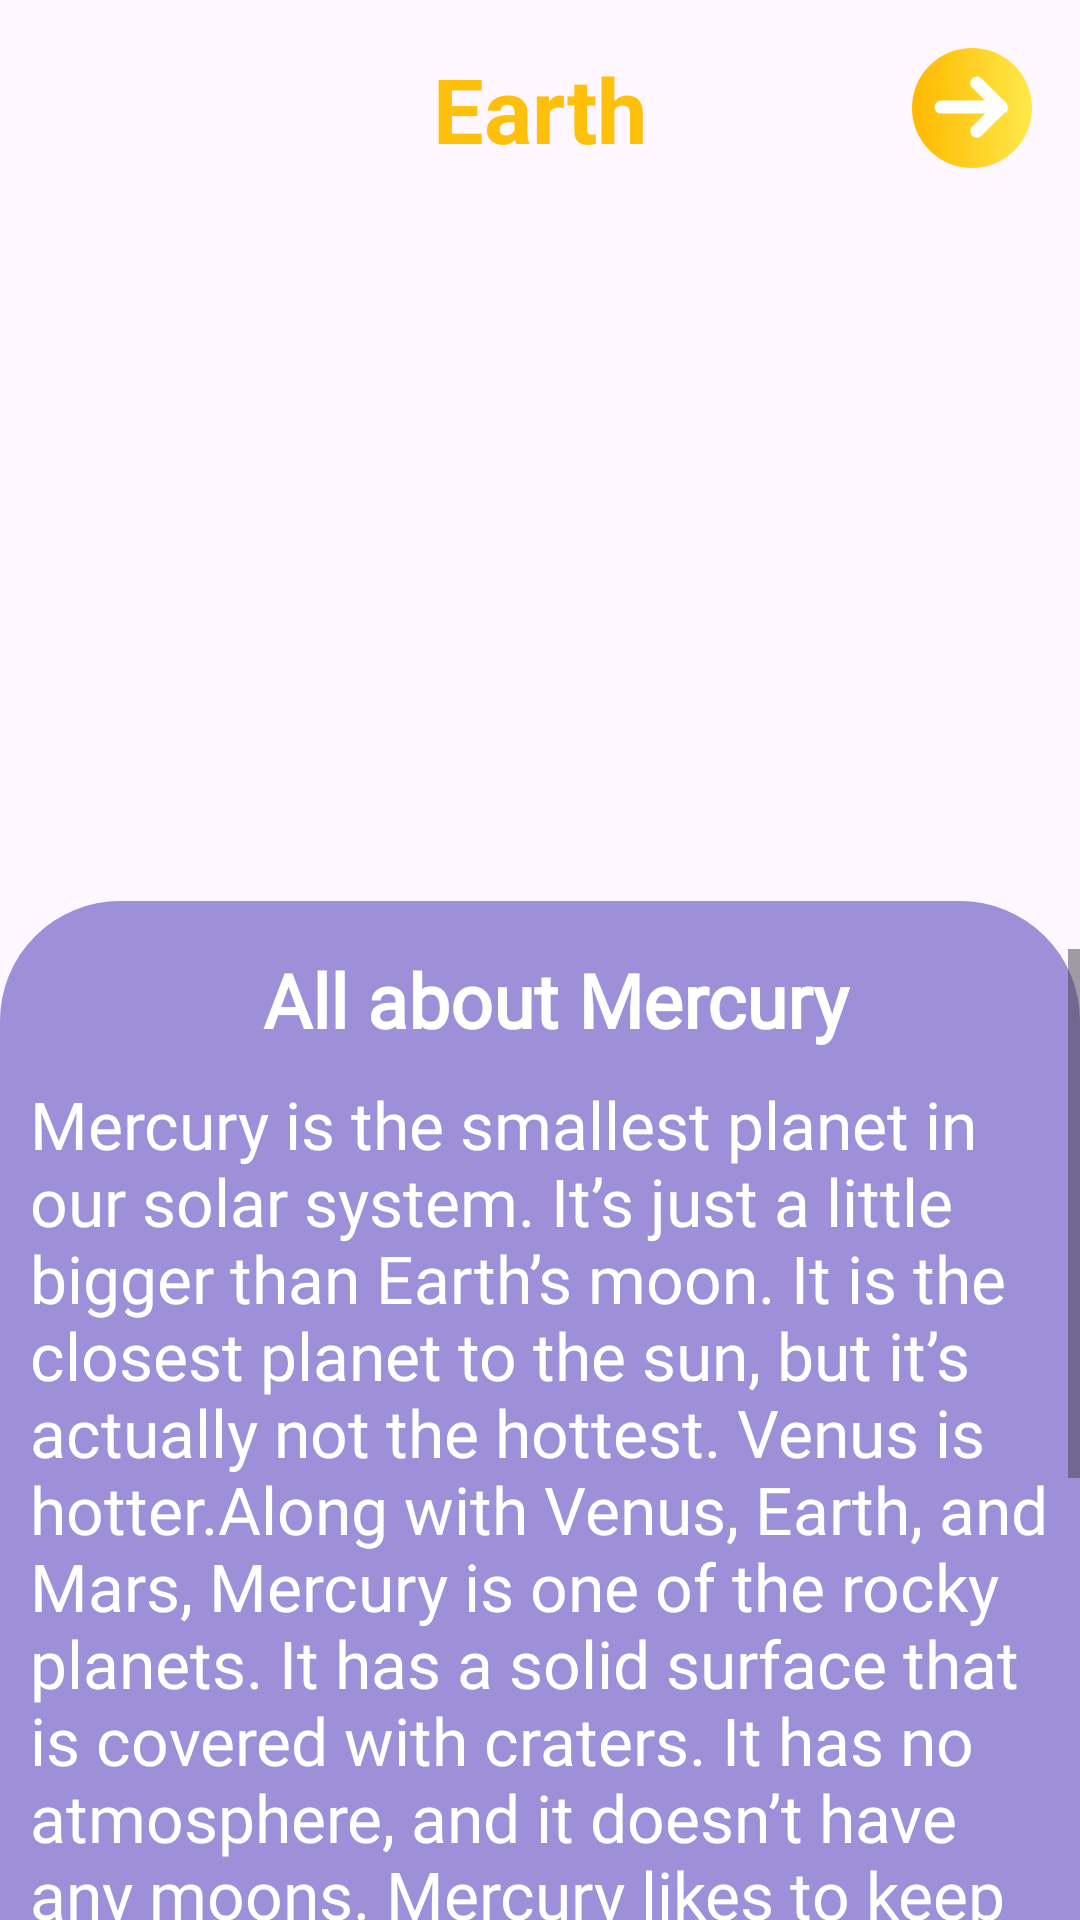

Screen size 1080px×1920px. Icon name, then its center in pixels as (x=x, y=y):
next: (x=972, y=108)
